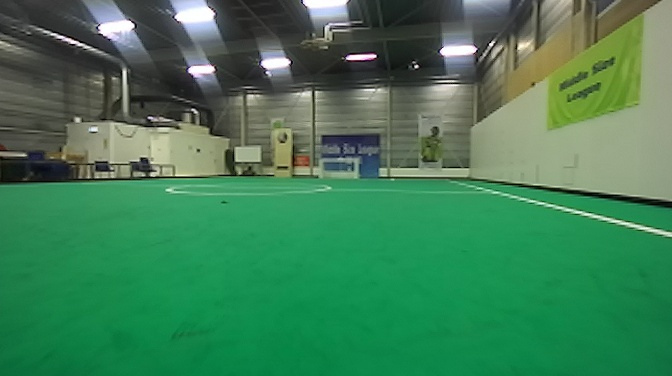goalpost: (344, 152, 366, 186), (313, 154, 328, 181)
